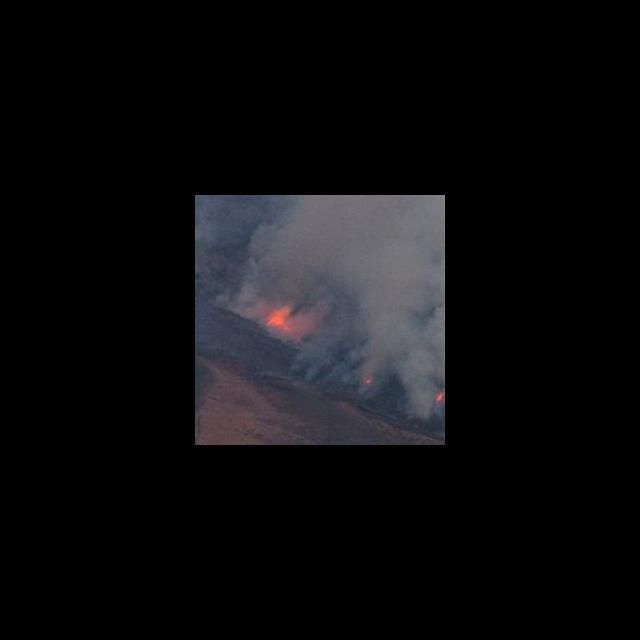Fire: (264, 302, 294, 332), (364, 376, 372, 386), (436, 393, 444, 403)
Smoke: (202, 198, 444, 296), (309, 300, 445, 374)
